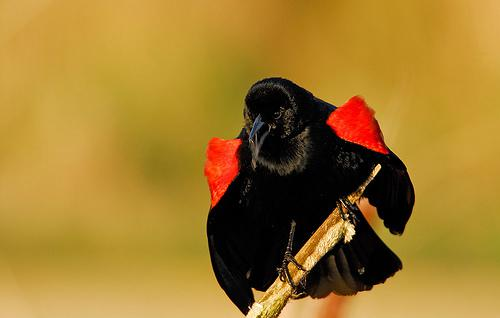010.Red_winged_Blackbird: (201, 75, 419, 318)
